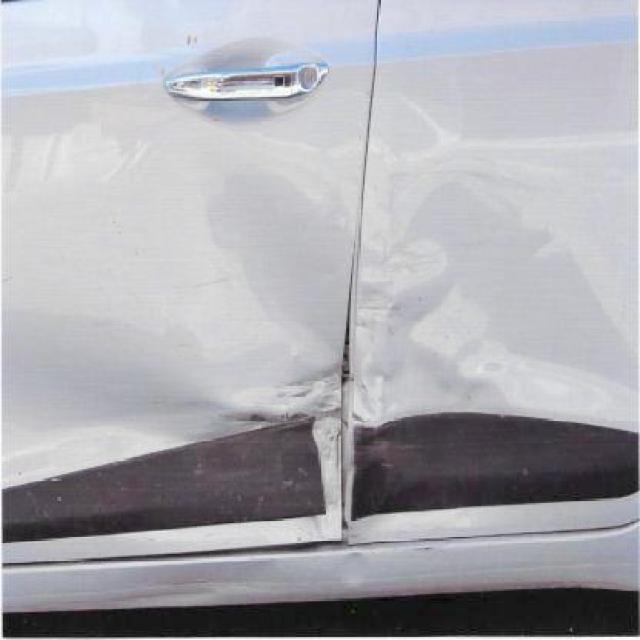car damage: (201, 156, 623, 452), (247, 402, 314, 427)
